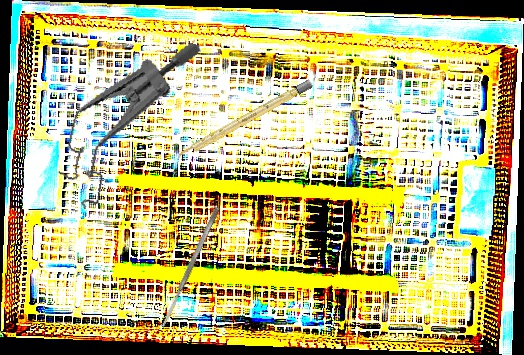Scalpel Handle: (173, 78, 314, 163)
Spatula Surgical: (158, 206, 222, 329)
Speculum: (49, 19, 203, 227)
